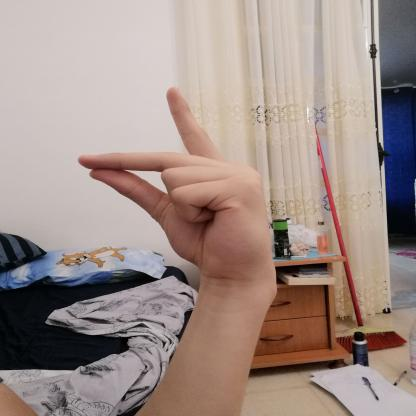TAA: (67, 79, 289, 292)
